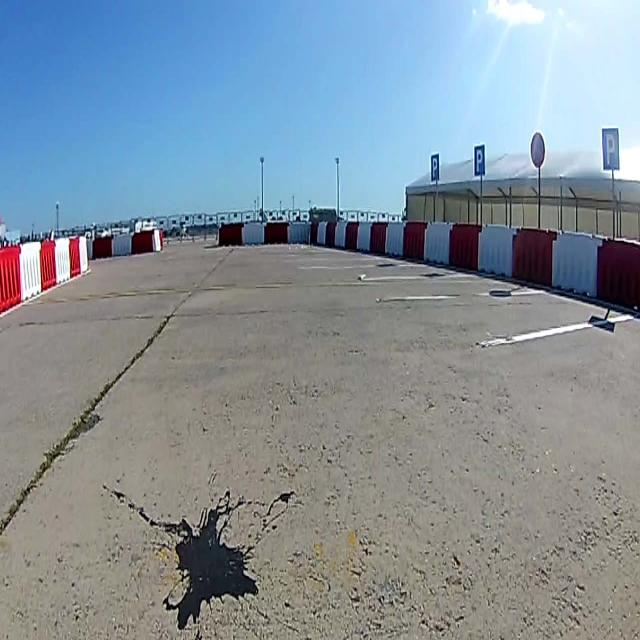park: (601, 128, 620, 171), (473, 144, 485, 177), (430, 155, 440, 182)
parkyasak: (530, 132, 544, 168)
